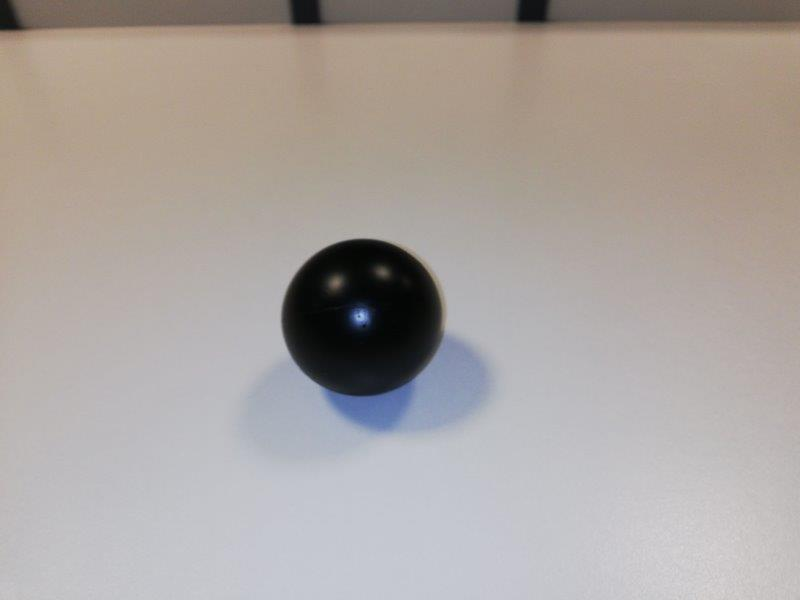nera: (280, 237, 443, 397)
